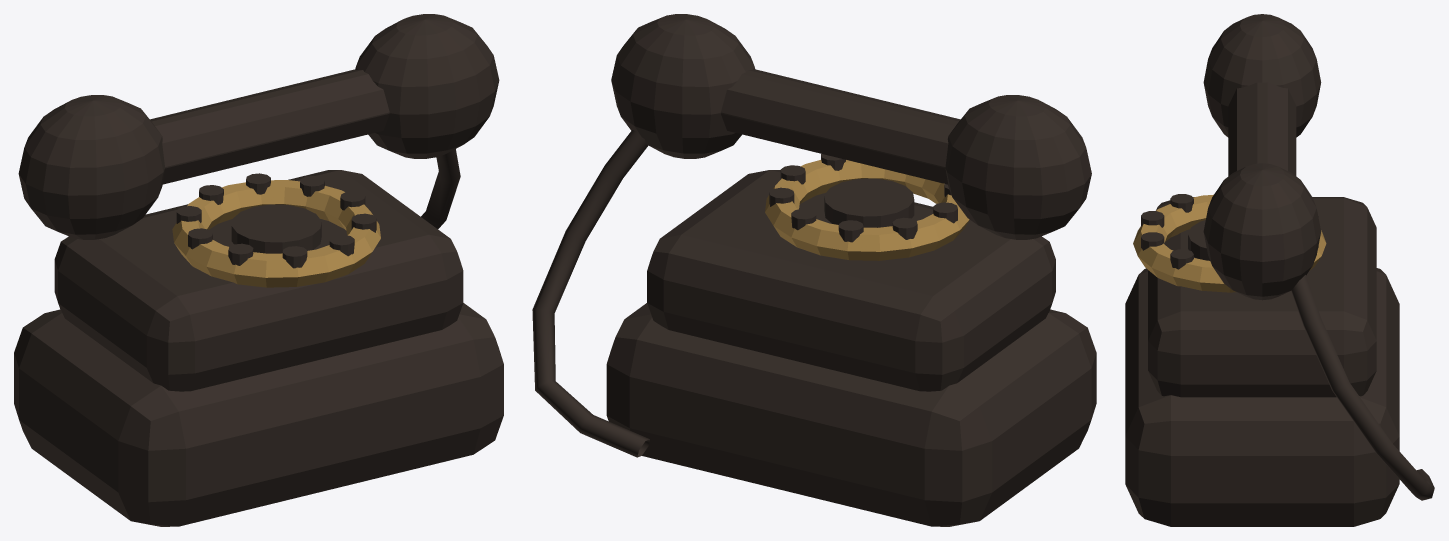
Rendered from vintage_phone.glb.
3 renders of one model, left to right at view 1: azimuth 30°, elevation 25°; view 2: azimuth 150°, elevation 25°; view 3: azimuth 270°, elevation 25°, orthographic. The views are drawn at different scales.
Visible parts, largest first — view 1: TelephoneBase, TelephoneShoulder, HandsetLeft, HandsetGrip, HandsetRight, RotaryDial, DialCenter, TelephoneCord; view 2: TelephoneBase, TelephoneShoulder, HandsetLeft, HandsetGrip, HandsetRight, TelephoneCord, RotaryDial, DialCenter; view 3: TelephoneBase, TelephoneShoulder, HandsetRight, HandsetLeft, HandsetGrip, TelephoneCord, RotaryDial, DialCenter, DialHole_9.
Part boxes in pixels (bbox=[...]): TelephoneBase: bbox=[14, 303, 503, 526]; TelephoneShoulder: bbox=[54, 170, 463, 391]; HandsetLeft: bbox=[18, 95, 164, 239]; HandsetGrip: bbox=[150, 69, 389, 184]; HandsetRight: bbox=[355, 14, 499, 158]; RotaryDial: bbox=[172, 180, 380, 287]; DialCenter: bbox=[231, 204, 321, 253]; TelephoneCord: bbox=[421, 149, 460, 228]; TelephoneBase: bbox=[606, 303, 1096, 526]; TelephoneShoulder: bbox=[647, 170, 1055, 391]; HandsetLeft: bbox=[945, 95, 1091, 239]; HandsetGrip: bbox=[721, 69, 960, 184]; HandsetRight: bbox=[611, 14, 755, 158]; TelephoneCord: bbox=[532, 130, 649, 457]; RotaryDial: bbox=[765, 160, 969, 260]; DialCenter: bbox=[824, 178, 914, 227]; TelephoneBase: bbox=[1125, 268, 1399, 526]; TelephoneShoulder: bbox=[1148, 197, 1376, 397]; HandsetRight: bbox=[1203, 163, 1321, 300]; HandsetLeft: bbox=[1203, 14, 1321, 137]; HandsetGrip: bbox=[1228, 82, 1296, 175]; TelephoneCord: bbox=[1291, 275, 1434, 500]; RotaryDial: bbox=[1133, 194, 1326, 292]; DialCenter: bbox=[1188, 220, 1209, 260]; DialHole_9: bbox=[1170, 249, 1193, 269].
Bounding box in the file's own units: 0.395 × 0.307 × 0.2369.
